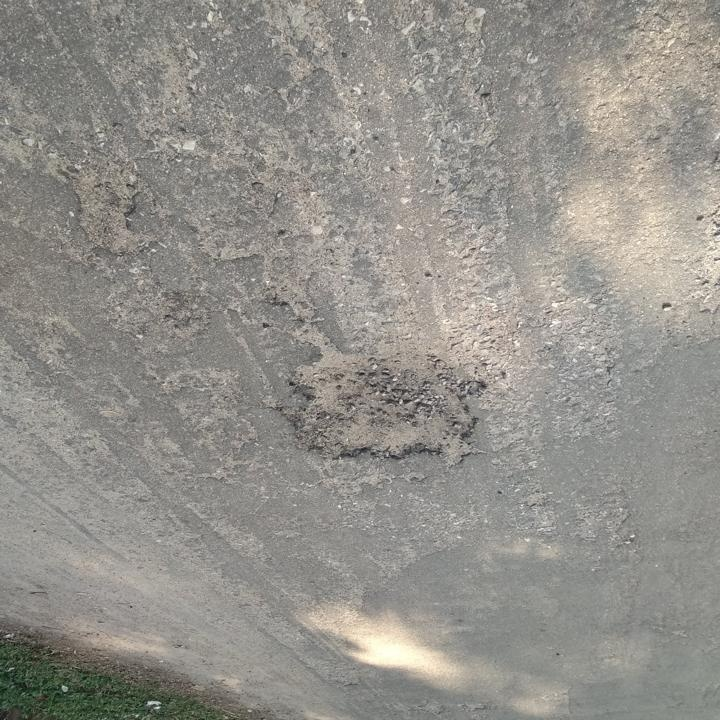pothole: (281, 332, 492, 471), (72, 169, 148, 254)
